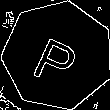P_NE: (30, 25, 85, 86)
